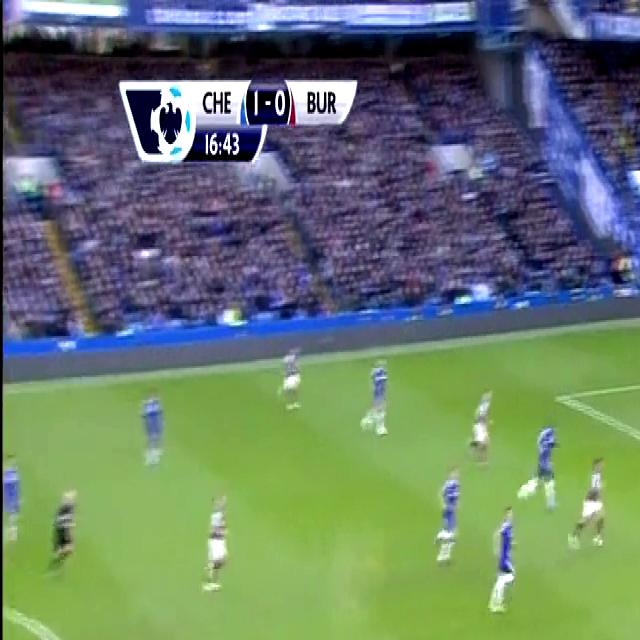referee: (43, 478, 81, 589)
soccer-player: (516, 391, 564, 522), (566, 450, 618, 567), (480, 498, 519, 614), (431, 466, 465, 583), (200, 484, 234, 598), (356, 346, 394, 442), (138, 369, 169, 480), (465, 376, 501, 458), (279, 334, 310, 426)
